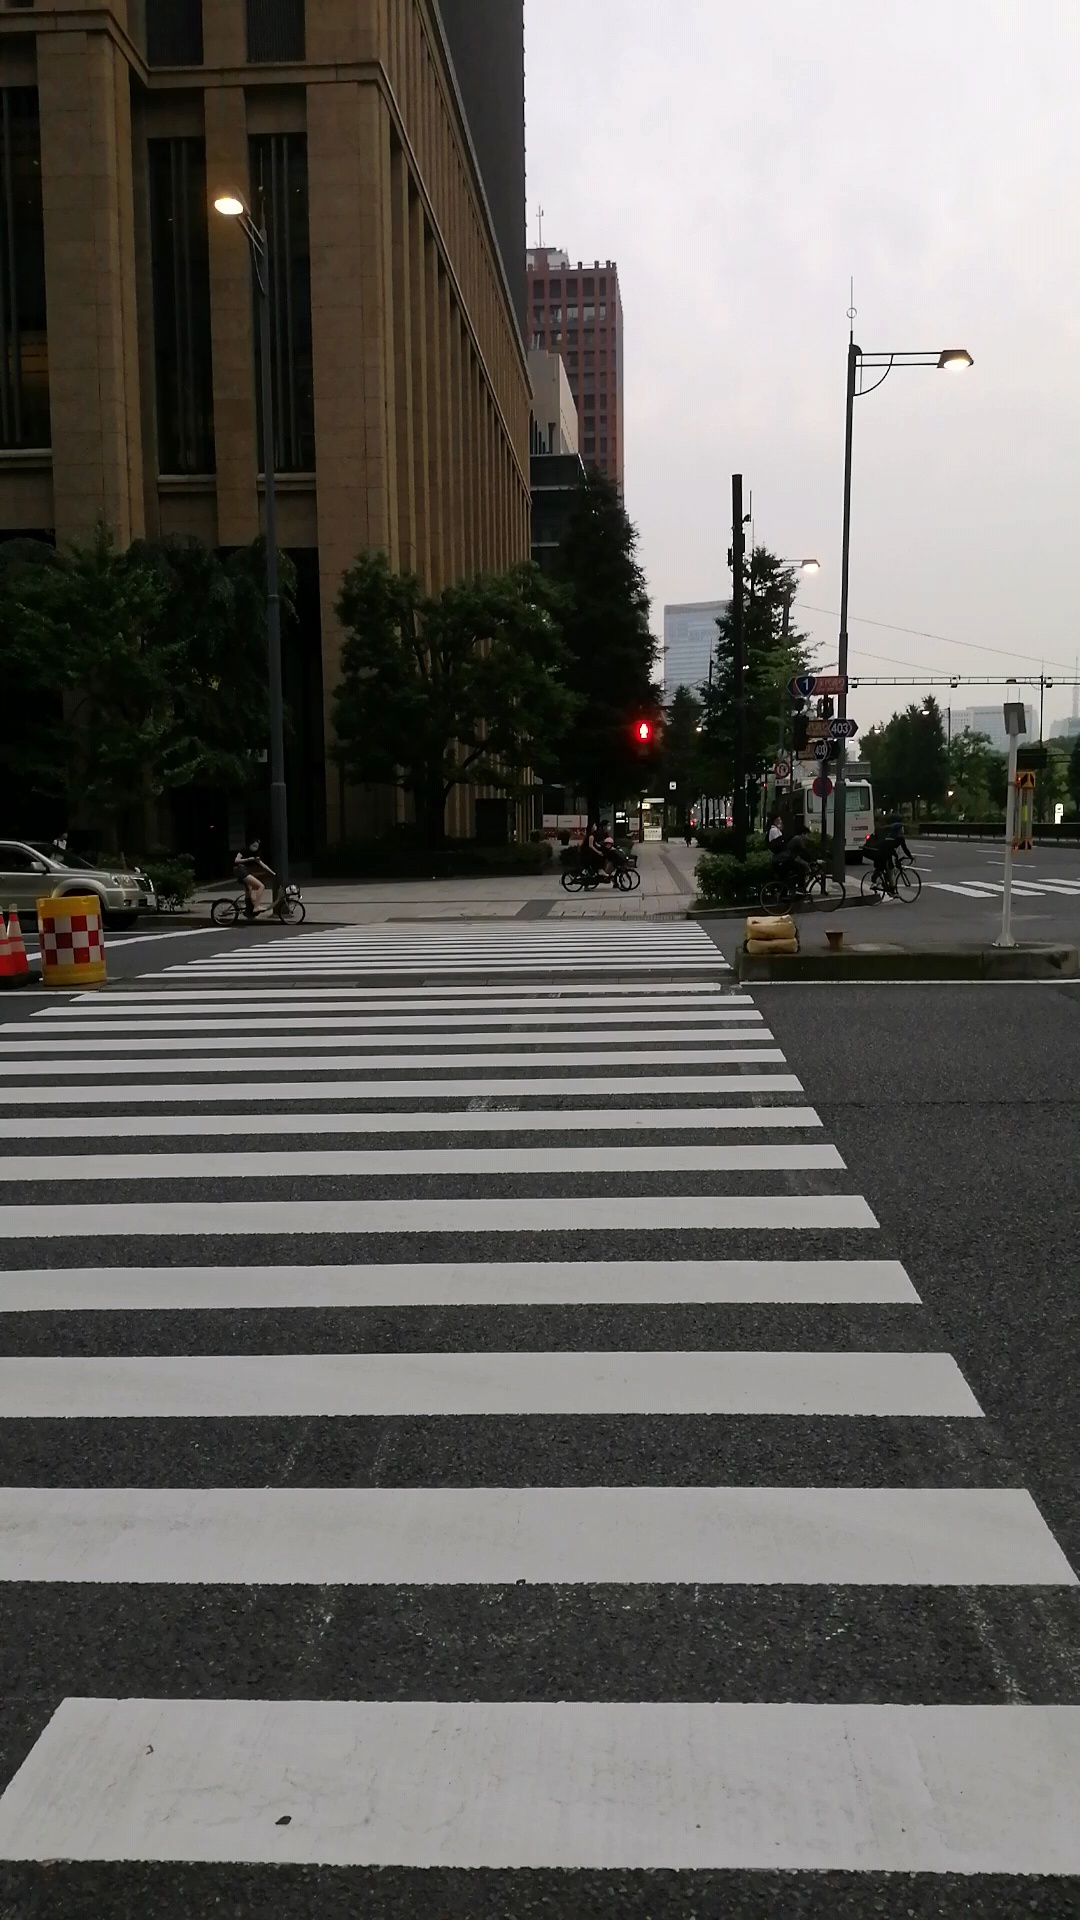red: (628, 716, 655, 764)
